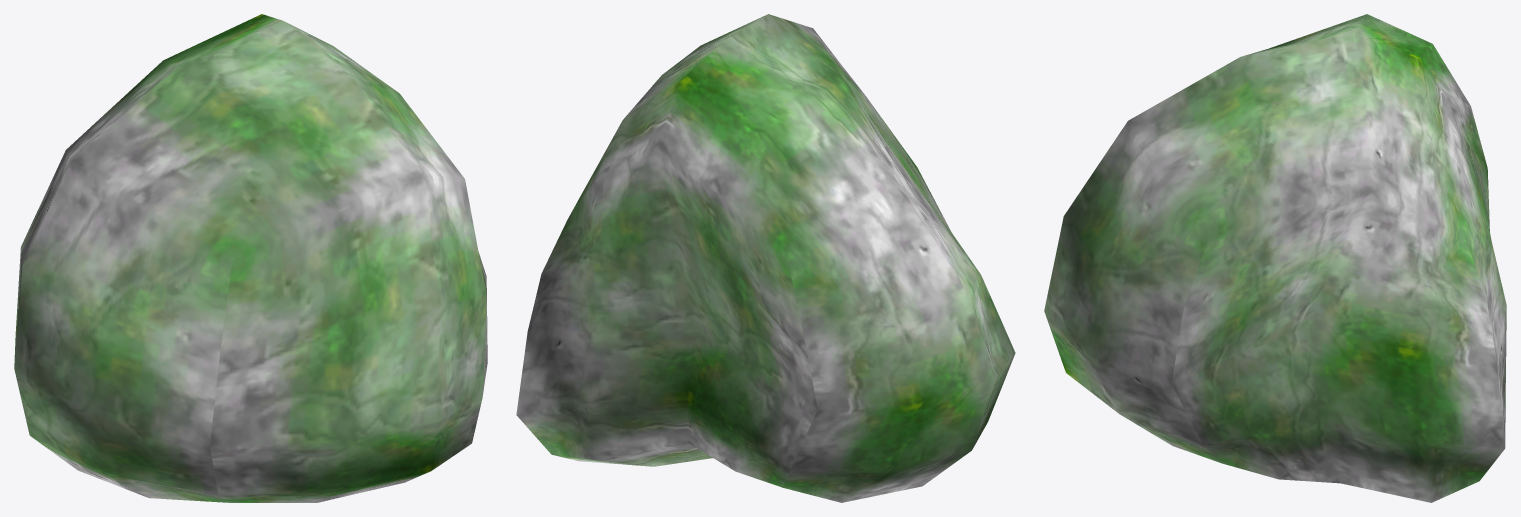
File: INST_HTOWN_ROCKF.fbx
3 views of the same model, side by side, from view 1: azimuth 30°, elevation 25°; view 2: azimuth 150°, elevation 25°; view 3: azimuth 270°, elevation 25° (orthographic).
Parts seen in each view (by area): view 1: INST_HTOWN_ROCKF; view 2: INST_HTOWN_ROCKF; view 3: INST_HTOWN_ROCKF.
Part boxes in pixels (box(x1,y1,x2,y2)): INST_HTOWN_ROCKF: box(14, 14, 487, 502); INST_HTOWN_ROCKF: box(516, 14, 1015, 502); INST_HTOWN_ROCKF: box(1044, 14, 1506, 502).
Bounding box in the file's own units: 20621 × 20621 × 20621.
1 material, 1 textured.
